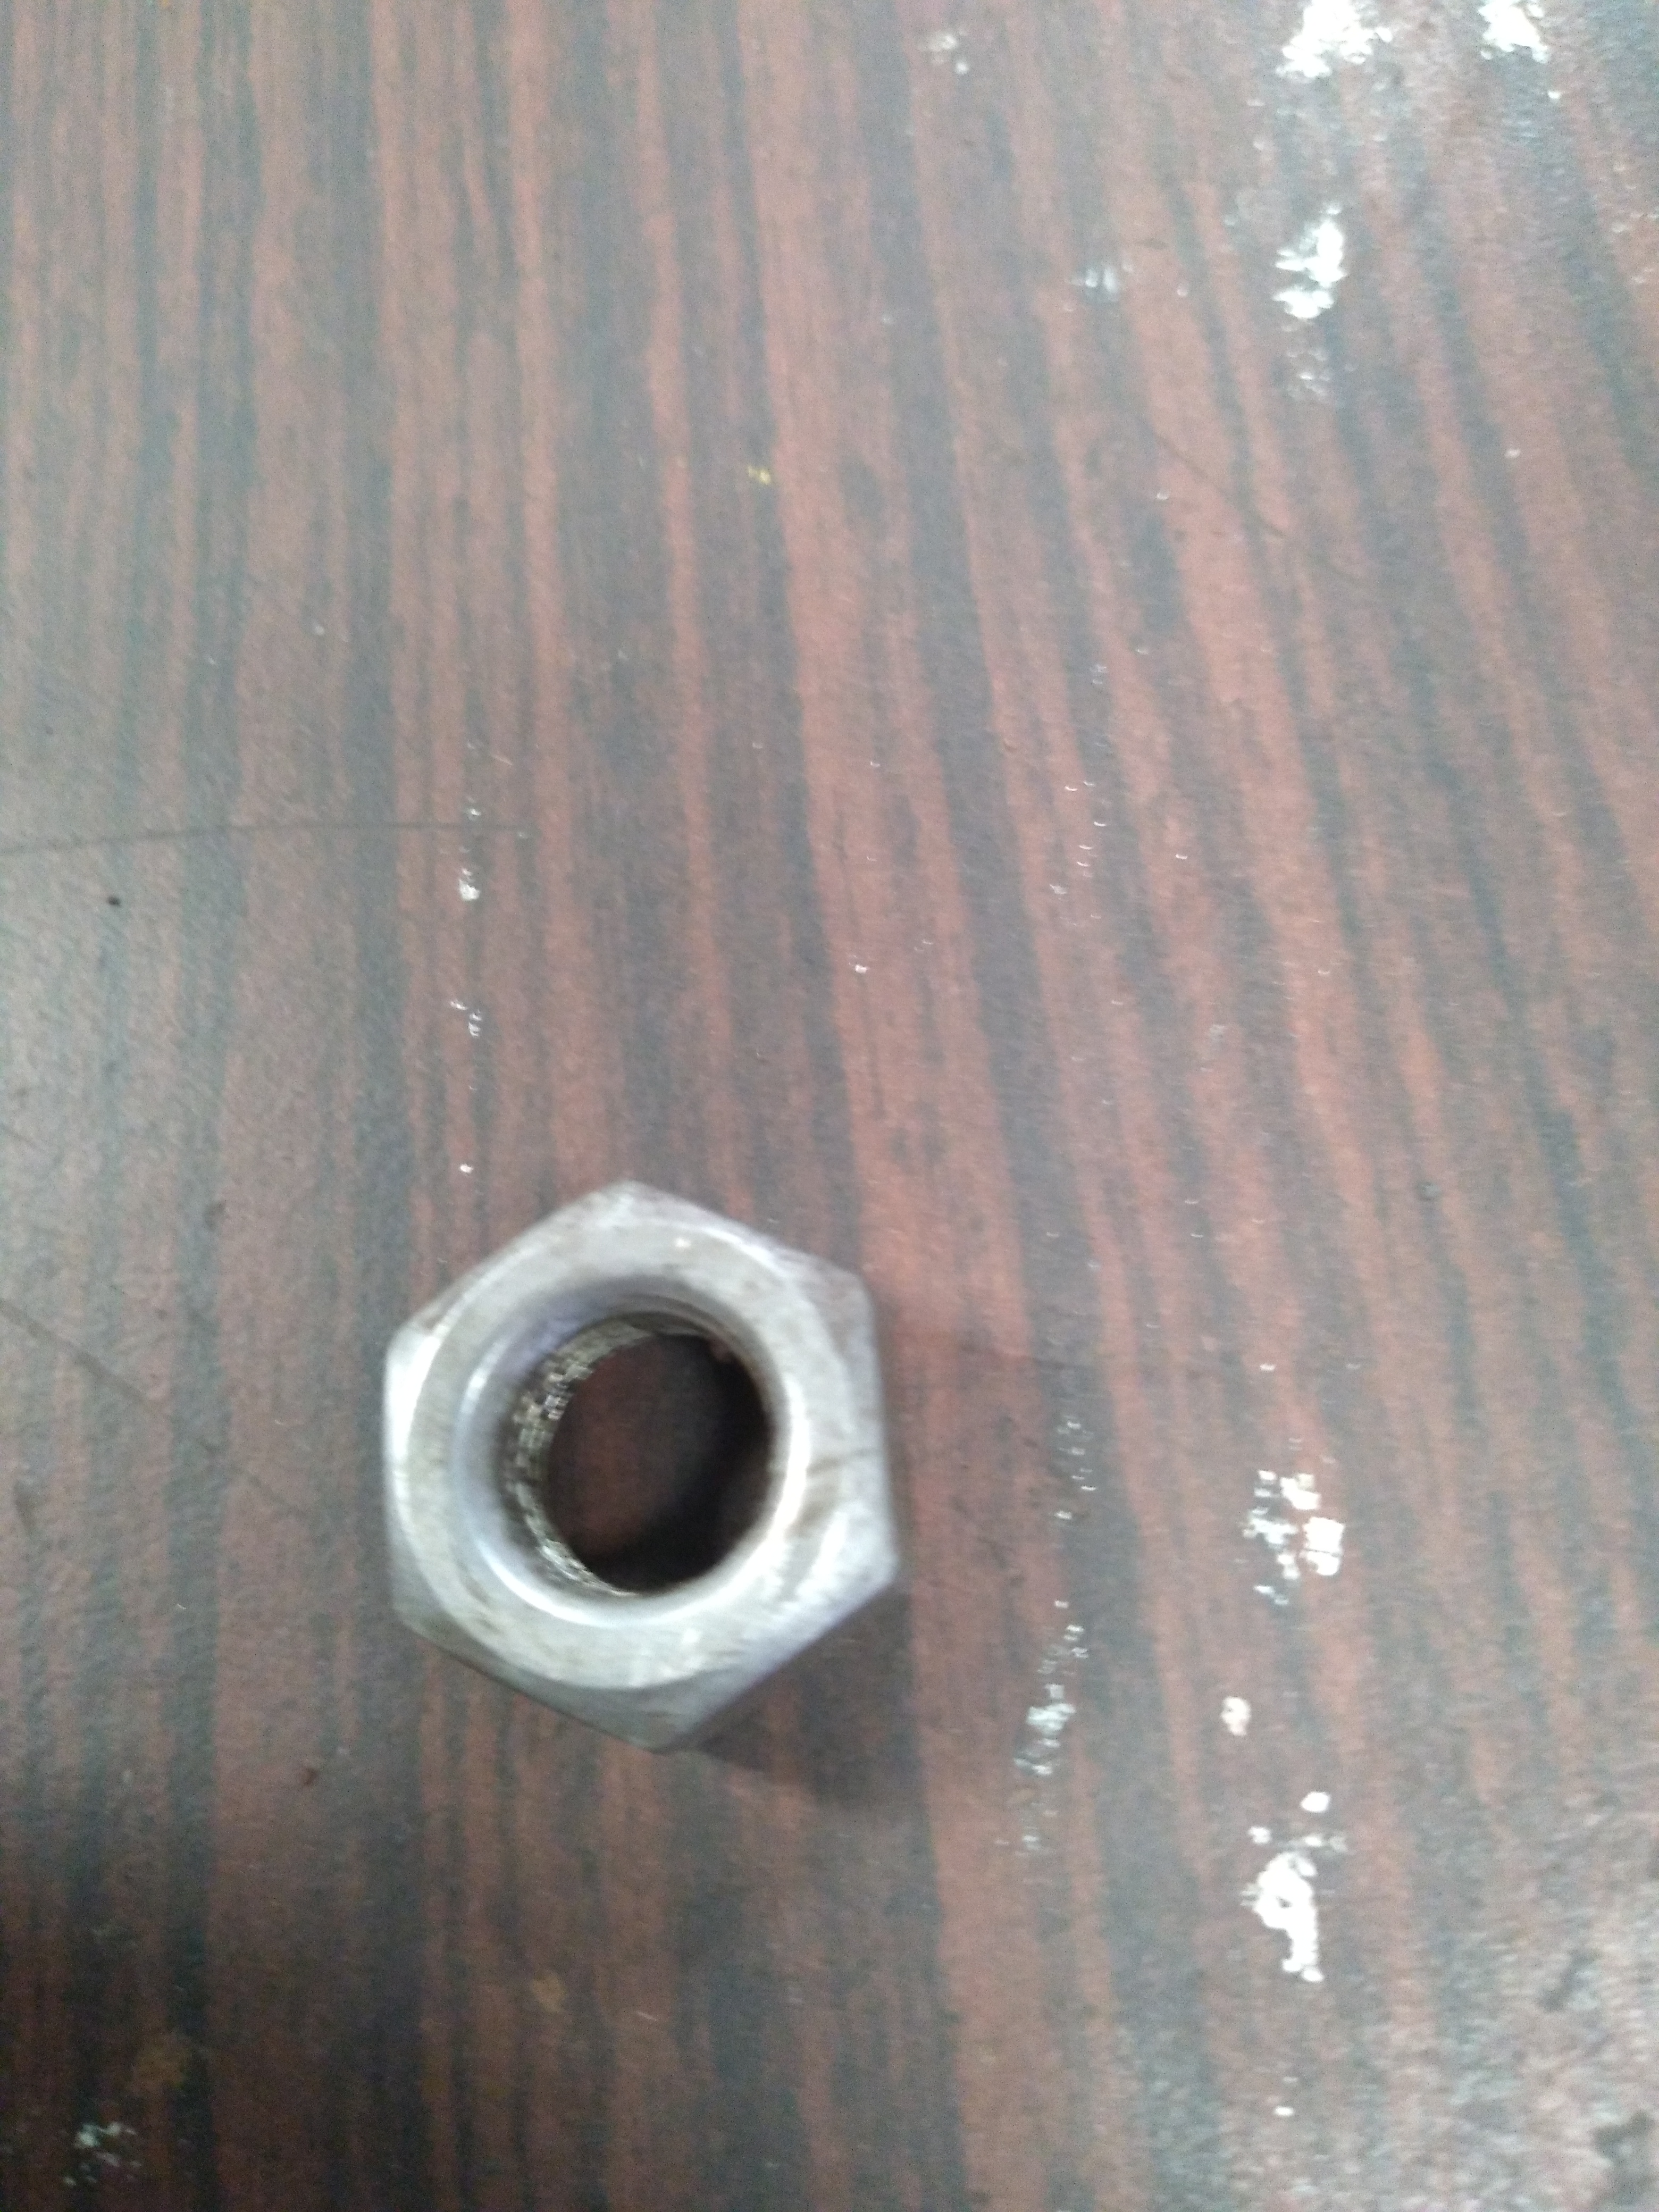Thread: (451, 1292, 814, 1622)
